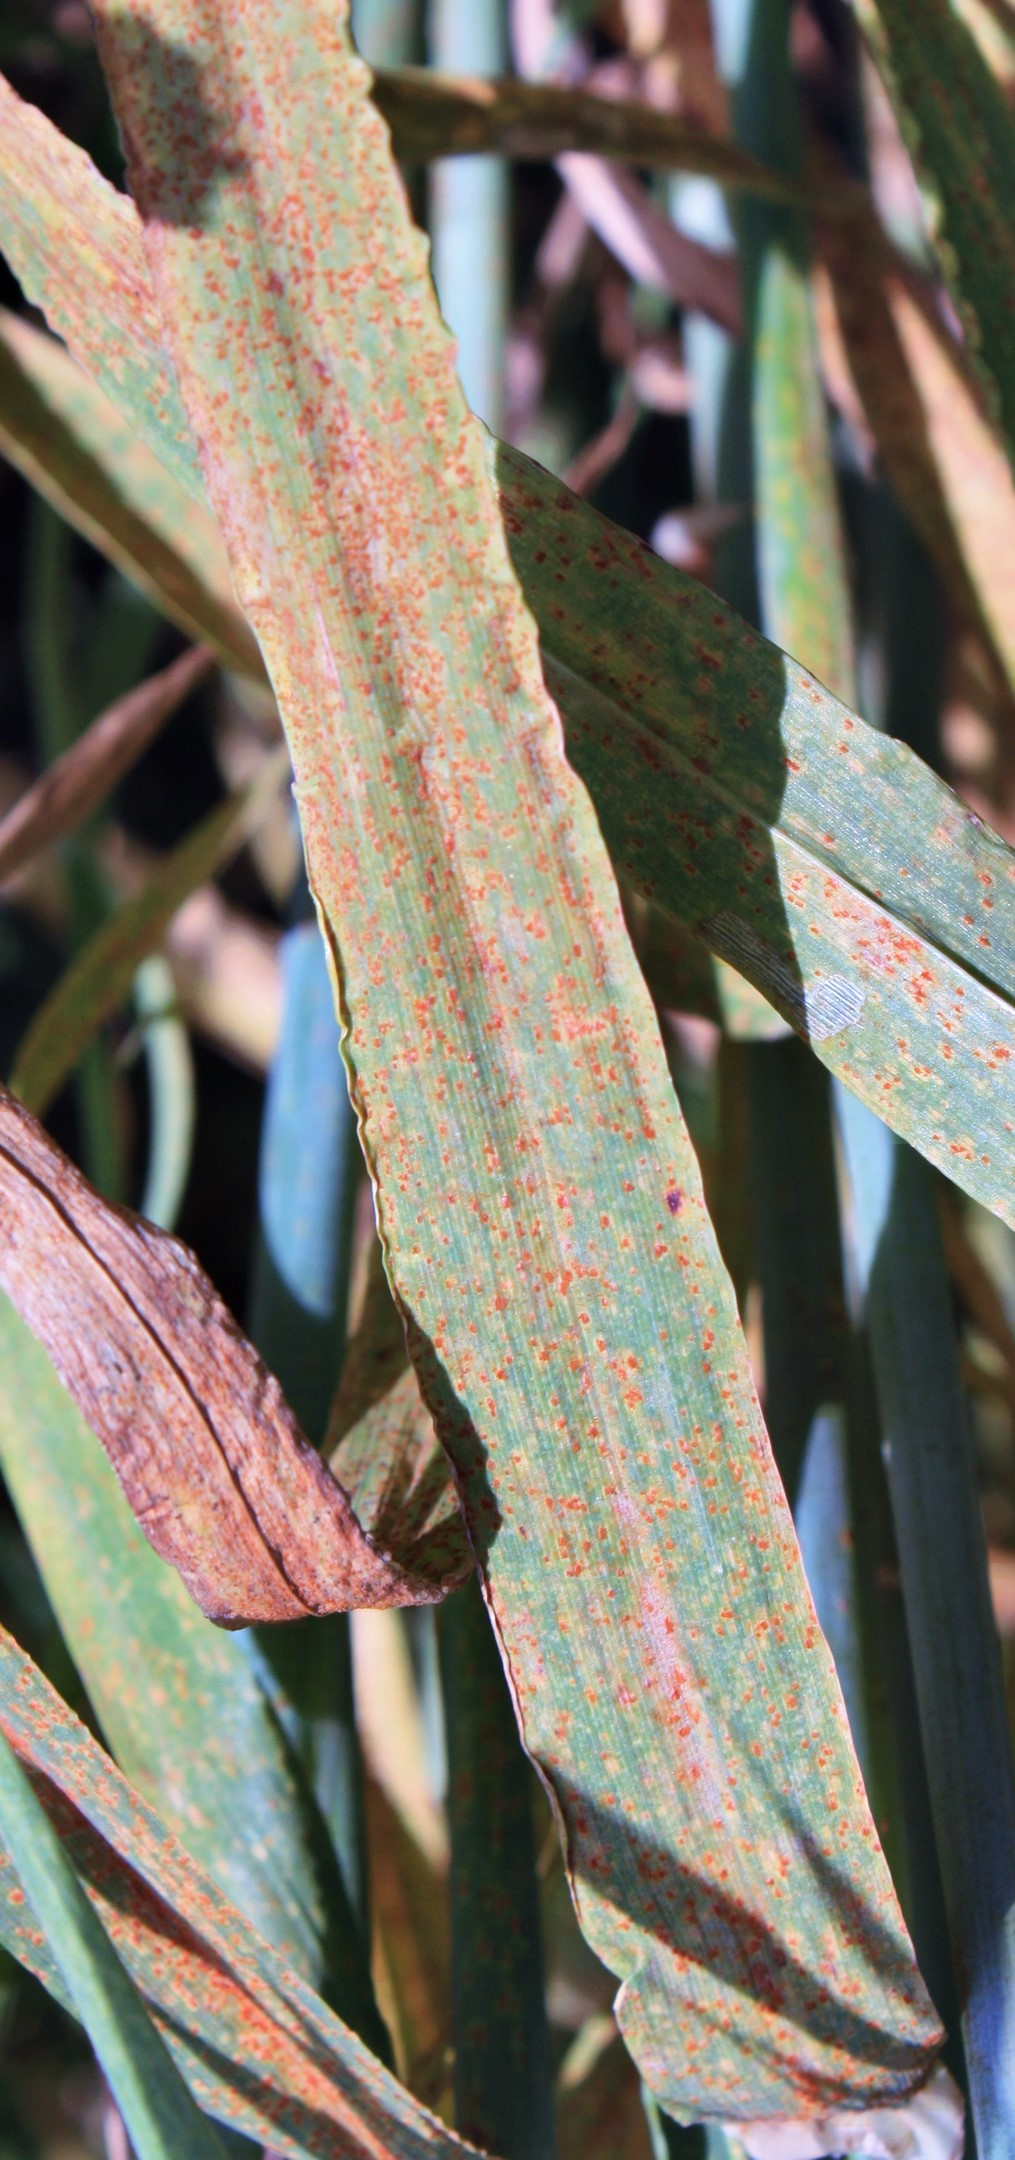Leaf Rust: (187, 212, 924, 1933)
